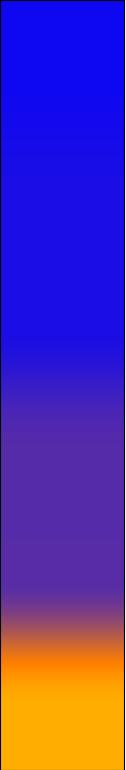Thermal Runaway: (8, 654, 119, 764)
critical: (5, 596, 119, 651)
safe: (5, 5, 121, 590)
